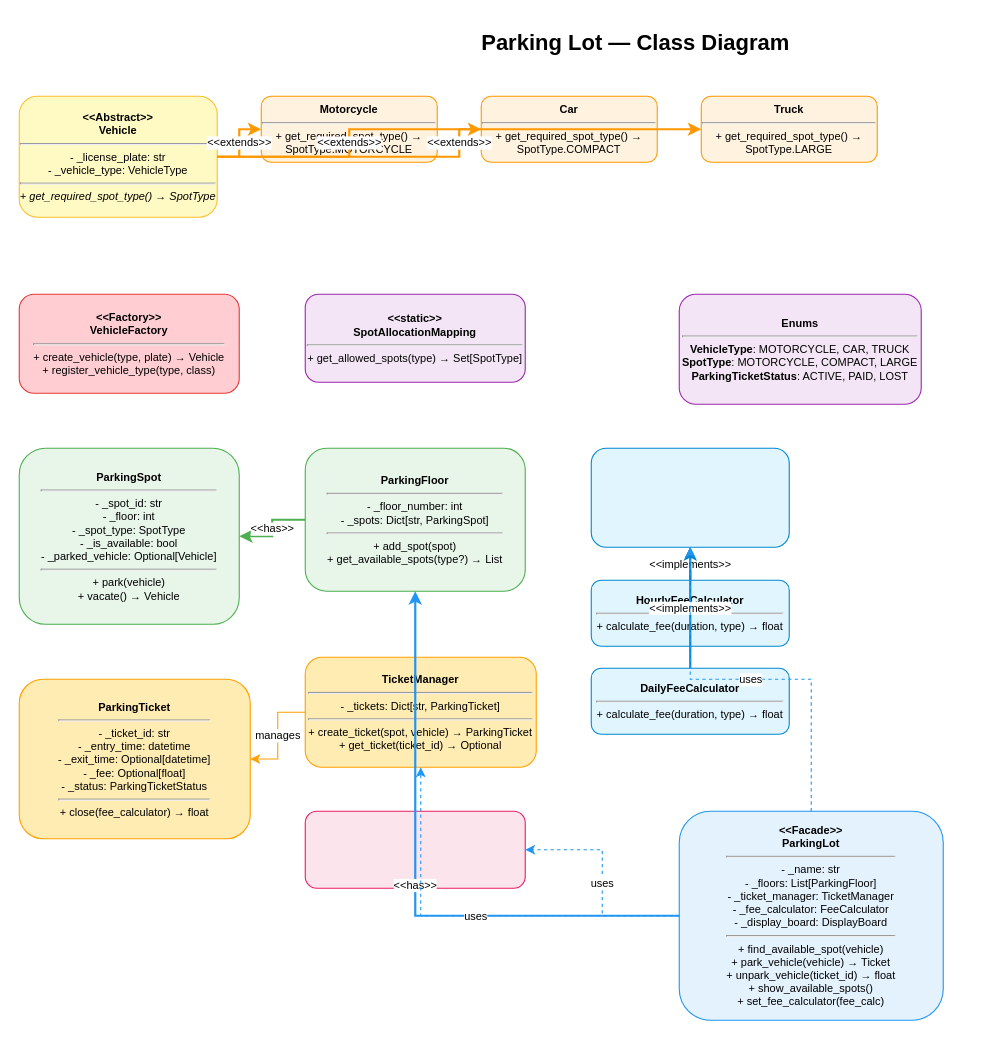
Image size: 985x1040. Some labels were removed from this diagram. The box of each missing label's shape, as (x1, y1, x2, y2) in pixels:
<<Interface>> FeeCalculator + calculate_fee(duration, type) → float: (590, 447, 789, 547)
<<static>> DisplayBoard + display_available_spots(floors): (304, 810, 525, 888)
